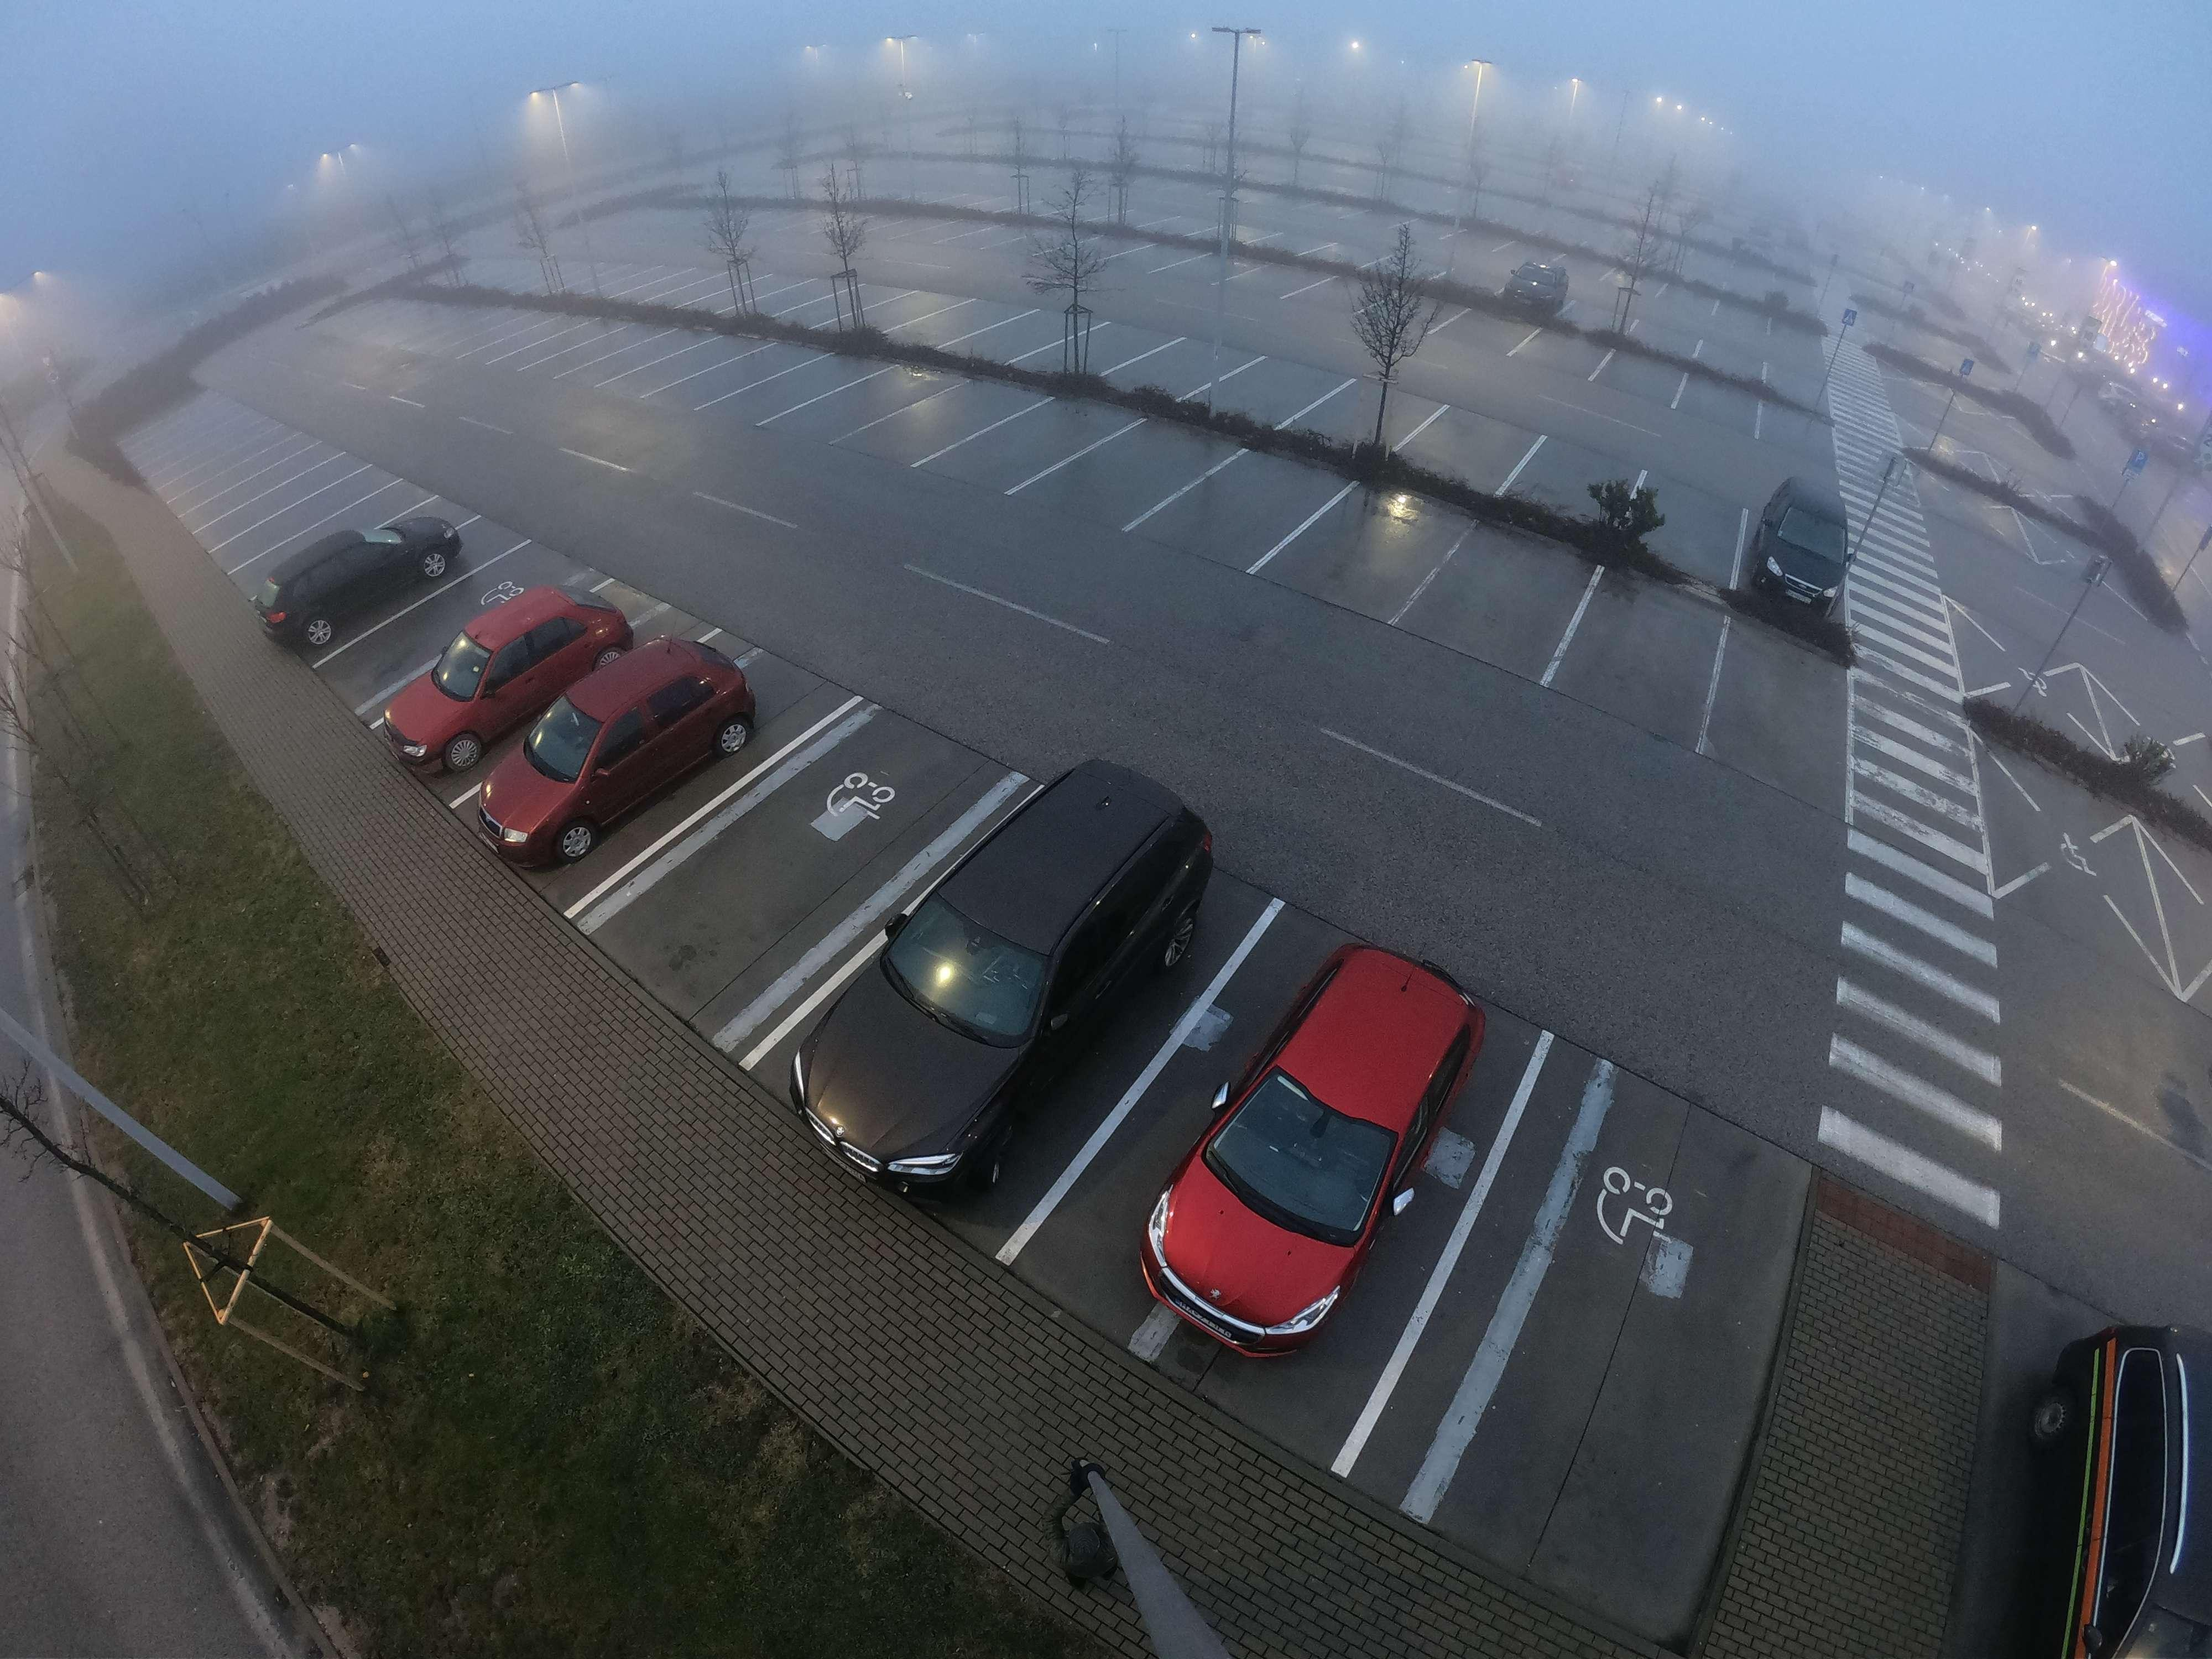empty: (817, 769, 1231, 1178), (1127, 913, 1501, 1364), (2026, 1283, 2212, 1659), (489, 641, 761, 852), (388, 589, 613, 770), (260, 505, 460, 640), (1737, 483, 1912, 627)
occupied: (1402, 1140, 1750, 1549), (698, 786, 904, 938), (390, 587, 521, 688), (1583, 620, 1705, 697), (1724, 680, 1831, 756), (1447, 573, 1554, 640), (1324, 532, 1430, 596), (1676, 368, 1766, 443), (395, 603, 484, 667), (1430, 312, 1521, 371), (1526, 458, 1622, 514), (1606, 343, 1686, 410), (1524, 317, 1601, 376), (1204, 488, 1298, 535), (1139, 331, 1214, 385), (1329, 399, 1413, 444), (1428, 429, 1508, 472), (1231, 373, 1313, 415), (1089, 460, 1169, 502), (1007, 423, 1075, 462)
